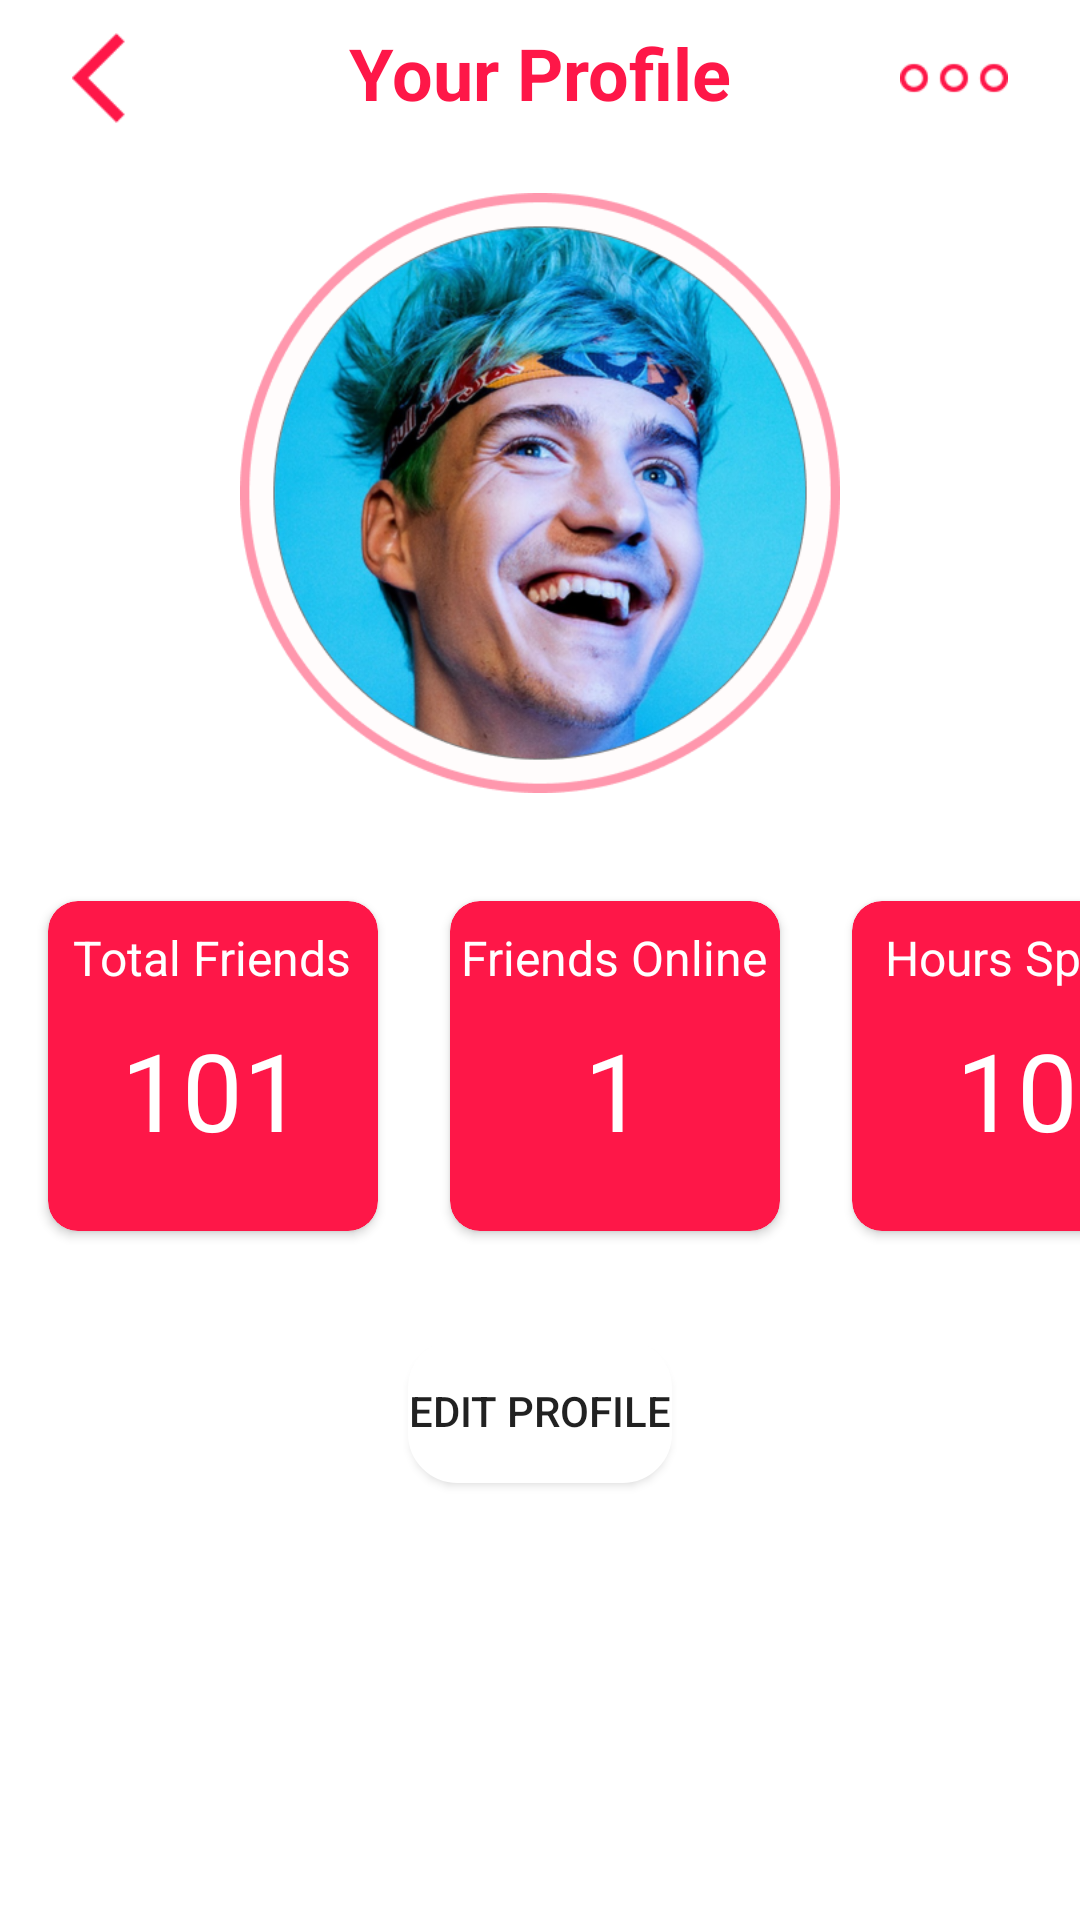

Where icons sit on this 1080*1920 app screen, as (x1, y1, x2, y2):
back: (72, 33, 125, 123)
dot: (900, 63, 1008, 93)
